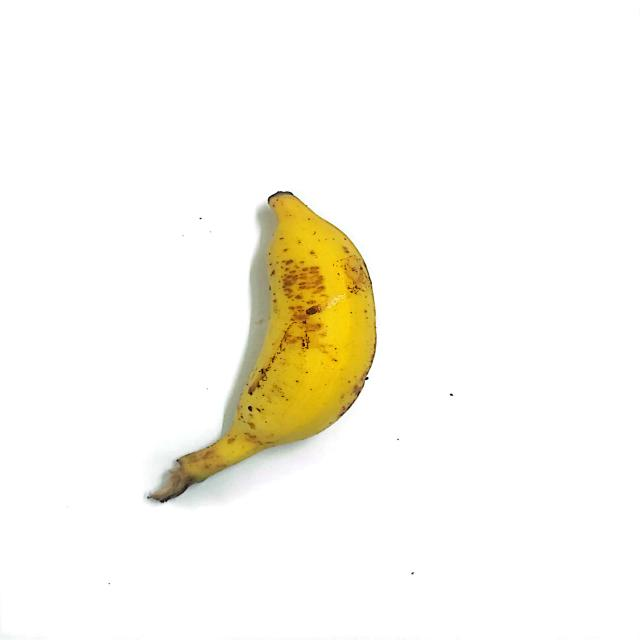fresh_banana: (152, 194, 372, 503)
